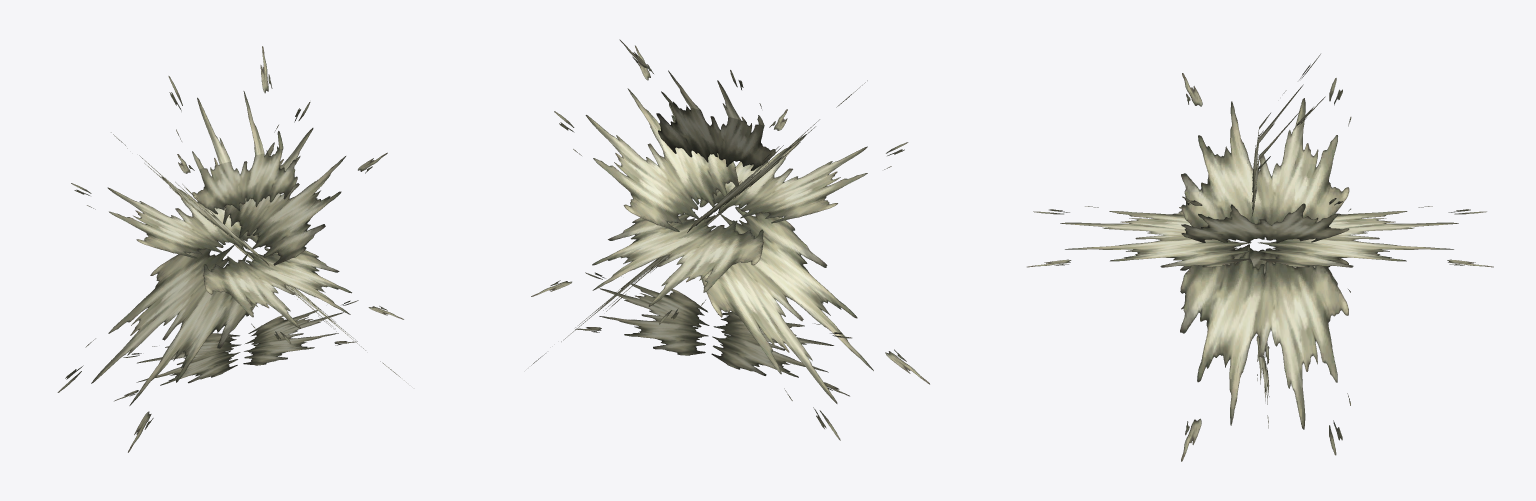
Rendered from iceCube03_light.fbx.
The picture shows the model from 3 angles, left to right: view 1: azimuth 30°, elevation 25°; view 2: azimuth 150°, elevation 25°; view 3: azimuth 270°, elevation 25°; orthographic projection. The views are drawn at different scales.
Visible parts, largest first — view 1: iceCube03_light1; view 2: iceCube03_light1; view 3: iceCube03_light1.
Part boxes in pixels (bbox=[...]): iceCube03_light1: bbox=[57, 46, 406, 452]; iceCube03_light1: bbox=[531, 39, 929, 440]; iceCube03_light1: bbox=[1027, 54, 1493, 461].
Bounding box in the file's own units: 2.66 × 2.78 × 3.63.
